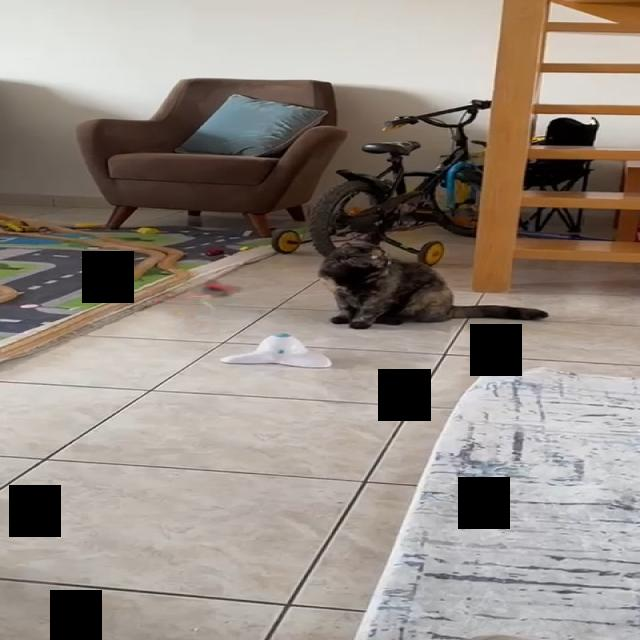authorized: (316, 228, 548, 329)
